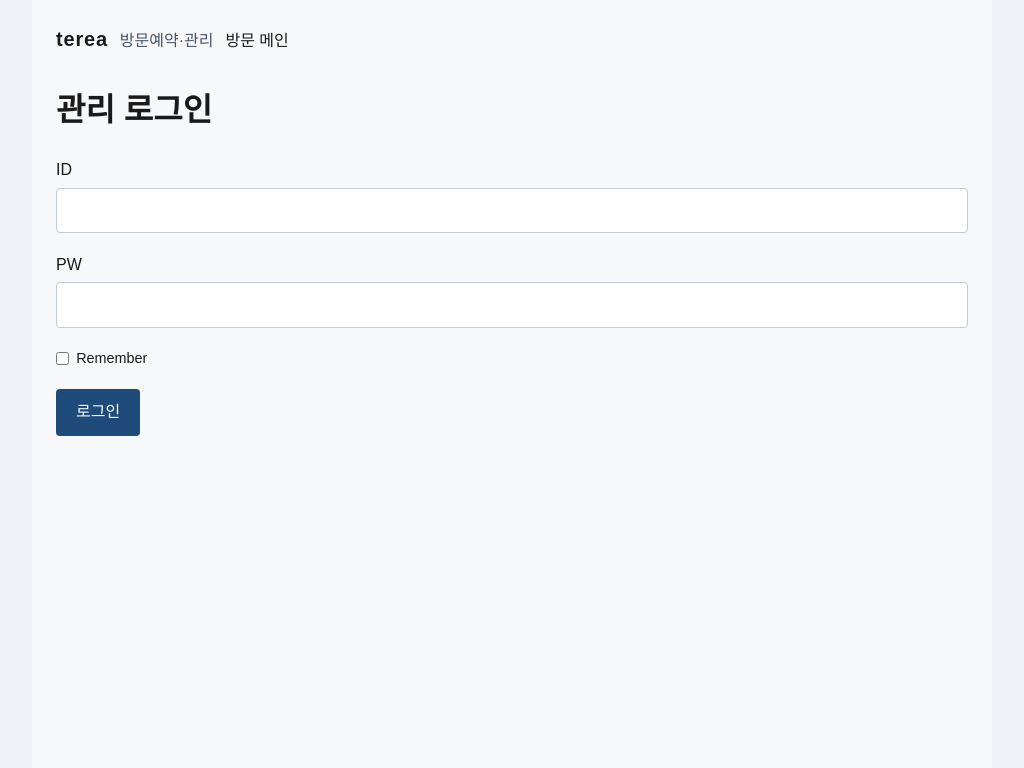
S34: 관리자 AdminShell · 권한그룹 › 사이드바에서 권한그룹 관리로 이동하고 그룹·권한 표를 본다
In the field labelled "ID": (512, 210) [56,188,968,233], type "admin"
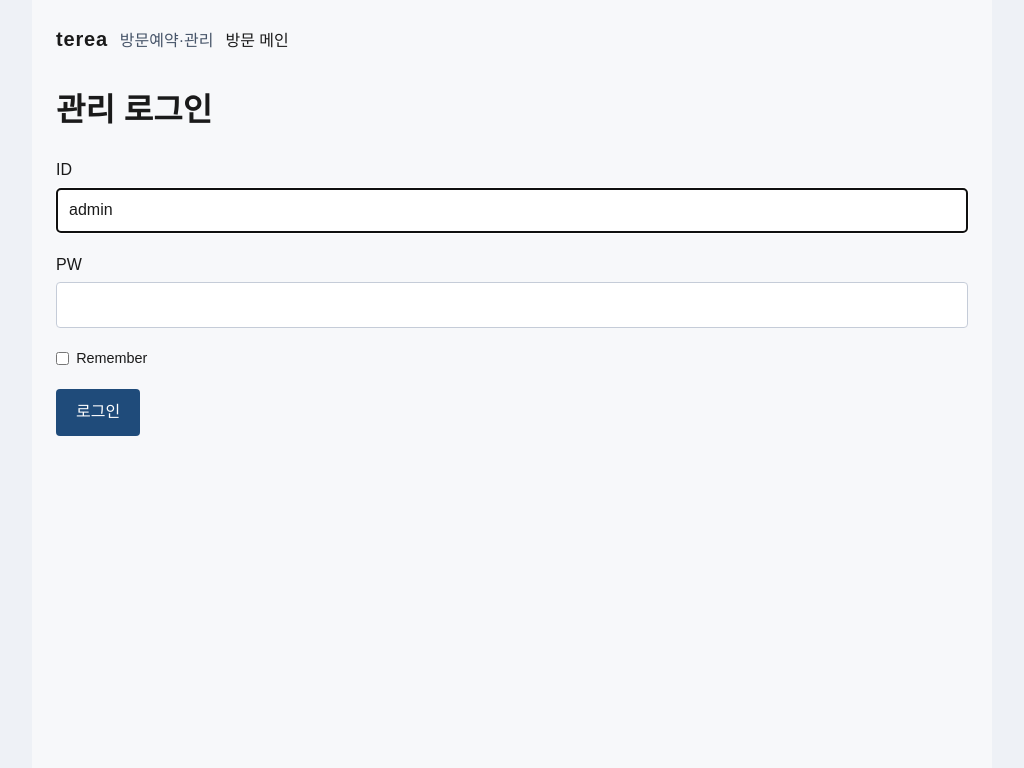
In the password field labelled "PW": (512, 305) [56,282,968,328], type "1234"
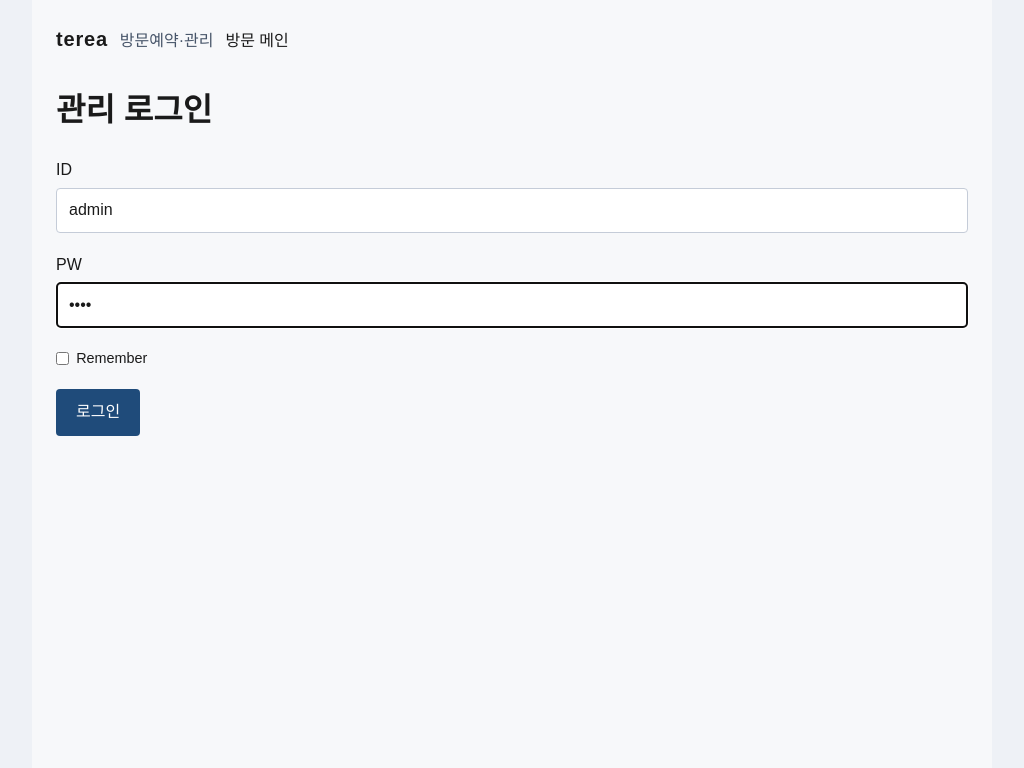
Click the button "로그인": (98, 412) [56,389,140,436]
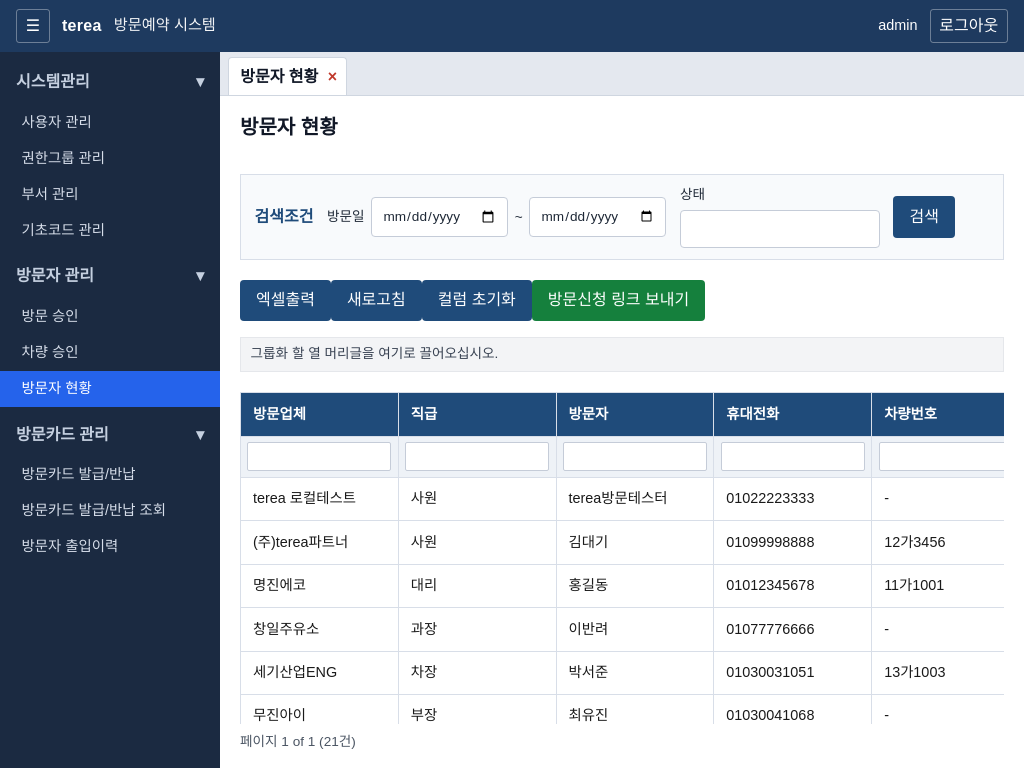
Expected: the text "방문예약 시스템" is shown, [114,14,216,37]
Expected: the text "terea" is shown, [62,14,102,38]
Click the link "권한그룹 관리": (63, 158) [22,150,105,166]
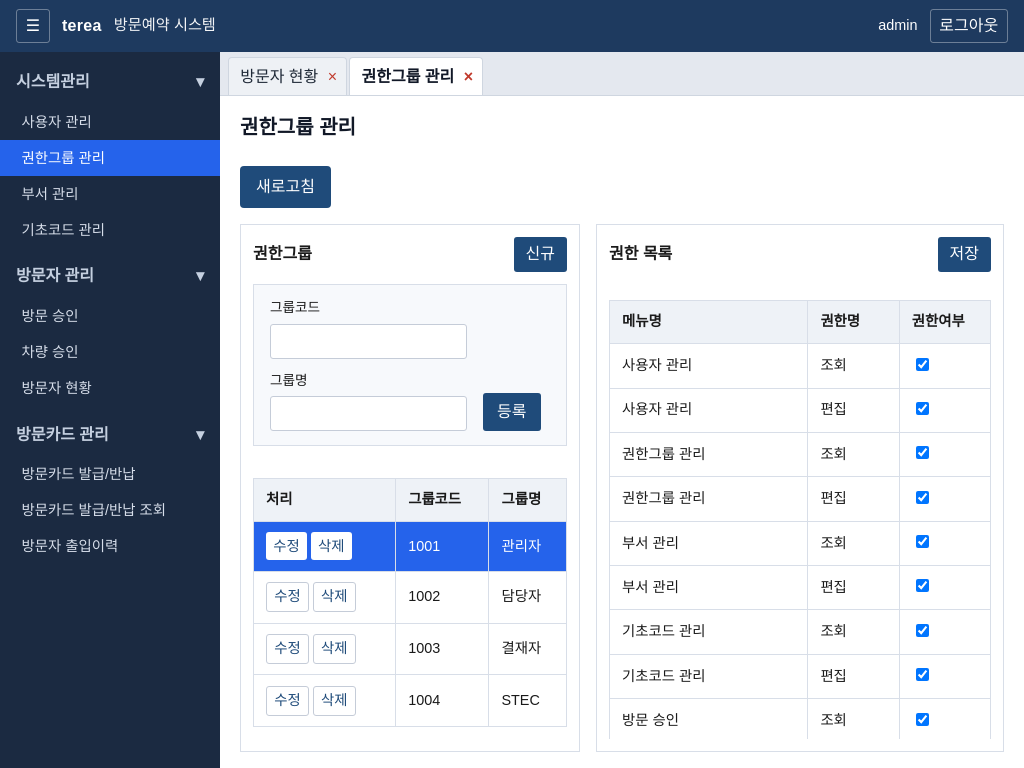
Expected: the text "1001" is shown, [396,522,489,571]
Expected: the heading "권한그룹 관리" is shown, [240,116,356,138]
Expected: the text "관리자" is shown, [489,522,566,571]
